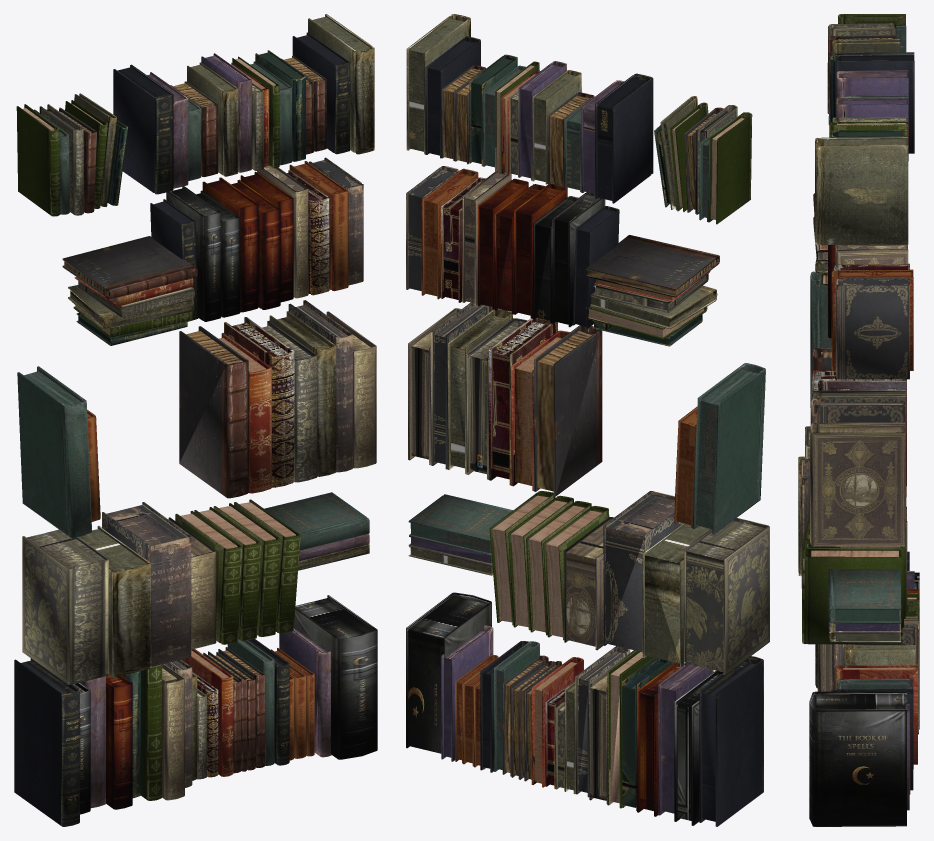
File: coti_books.glb
3 views of the same model, side by side, from view 1: azimuth 30°, elevation 25°; view 2: azimuth 150°, elevation 25°; view 3: azimuth 270°, elevation 25° (orthographic). The views are drawn at different scales.
Visible parts, largest first — view 1: Cube.001; view 2: Cube.001; view 3: Cube.001.
Part boxes in pixels (x1=…): Cube.001: x1=14, y1=14, x2=377, y2=826; Cube.001: x1=406, y1=14, x2=769, y2=826; Cube.001: x1=798, y1=14, x2=919, y2=826.
Size of the model in its own units: 0.1873 by 0.4 by 0.0646.
15 materials, 15 textured.
